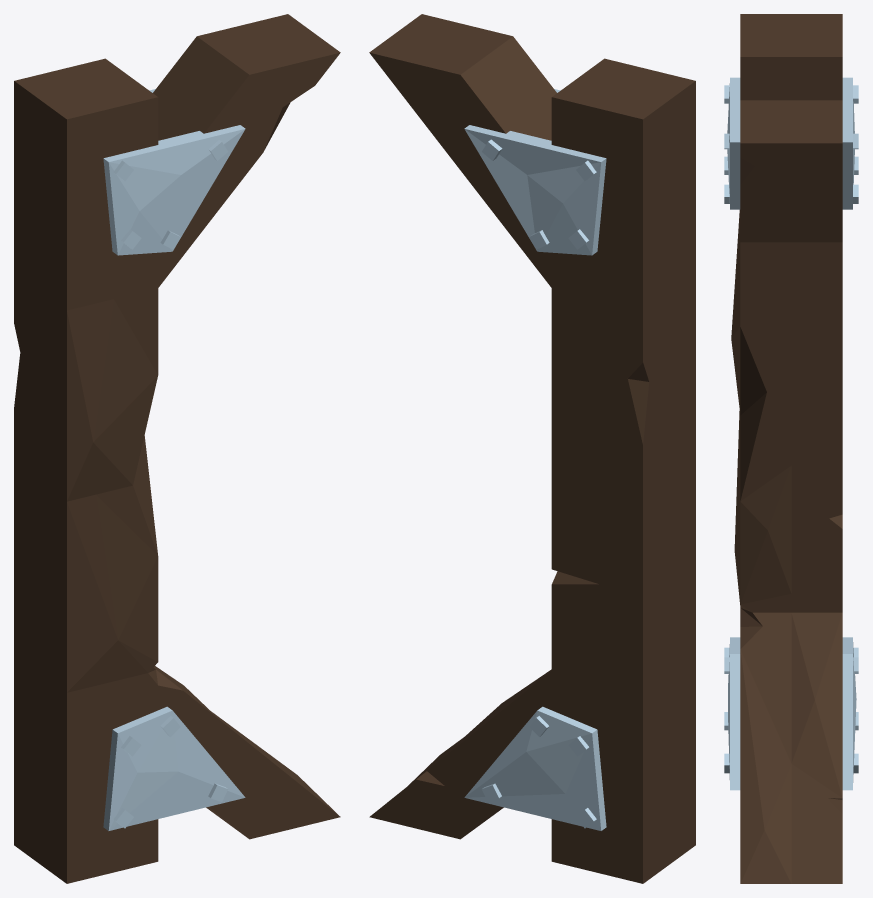
File: Strut_Medium.fbx
The picture shows the model from 3 angles, left to right: view 1: azimuth 30°, elevation 25°; view 2: azimuth 150°, elevation 25°; view 3: azimuth 270°, elevation 25°; orthographic projection. The views are drawn at different scales.
Visible parts, largest first — view 1: Strut_Medium; view 2: Strut_Medium; view 3: Strut_Medium.
Boxes of the visible parts, <box> form: Strut_Medium: <box>14,14,340,883</box>; Strut_Medium: <box>369,14,695,883</box>; Strut_Medium: <box>724,14,858,883</box>.
Bounding box in the file's own units: 3 × 8 × 1.32.
